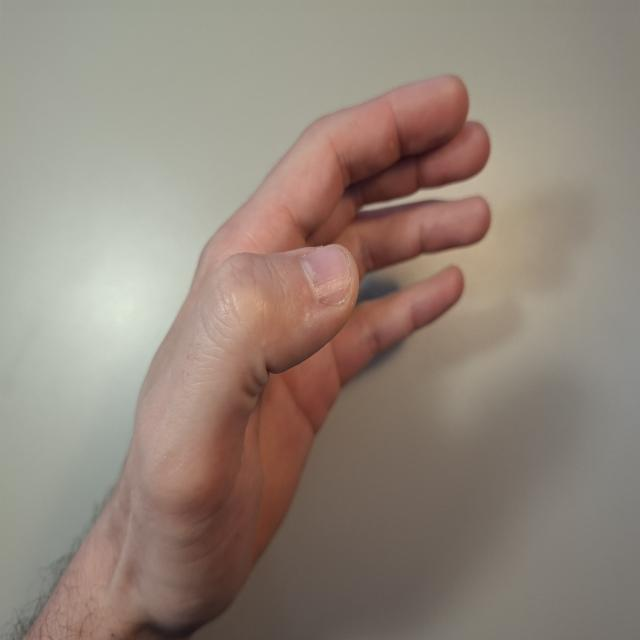glove_off: (117, 70, 494, 634)
